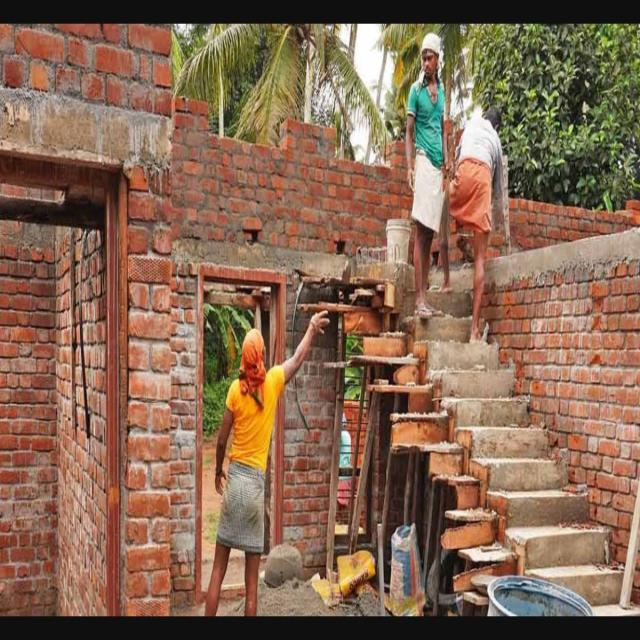Masonary: (9, 49, 615, 638)
